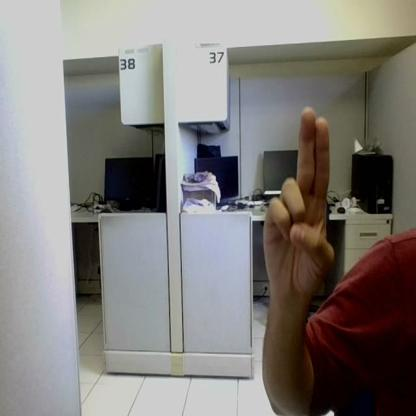U: (264, 108, 334, 293)
